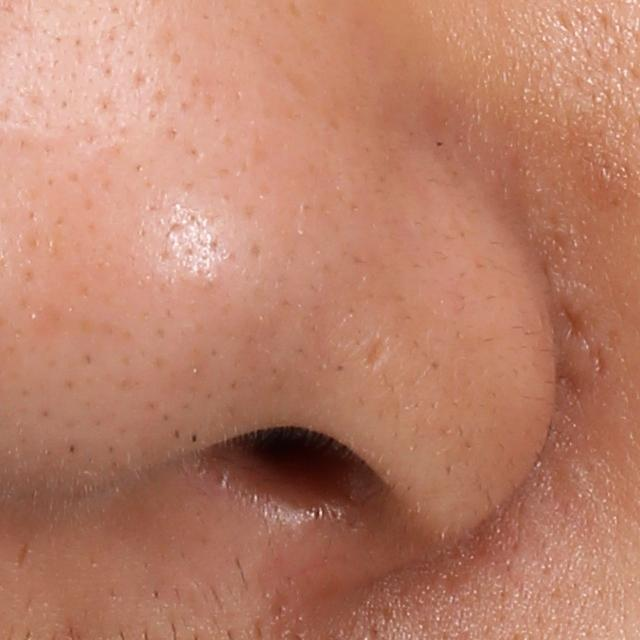atrophic_scar: (584, 340, 609, 384), (364, 336, 392, 373)
